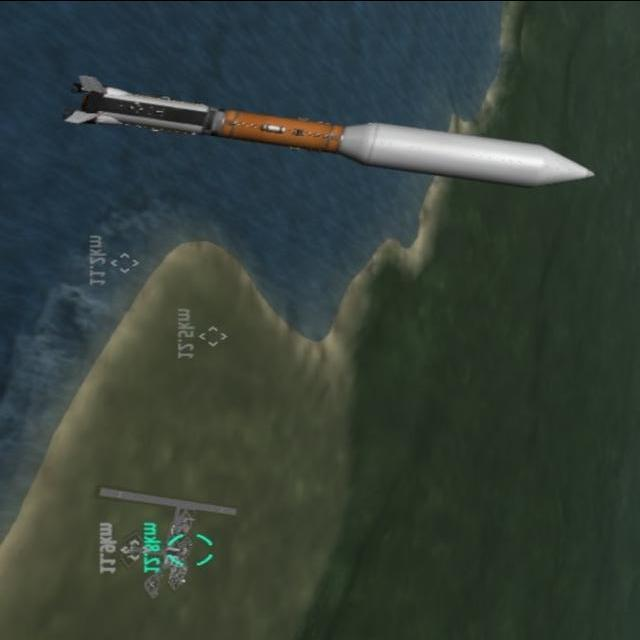missile: (58, 67, 594, 200)
